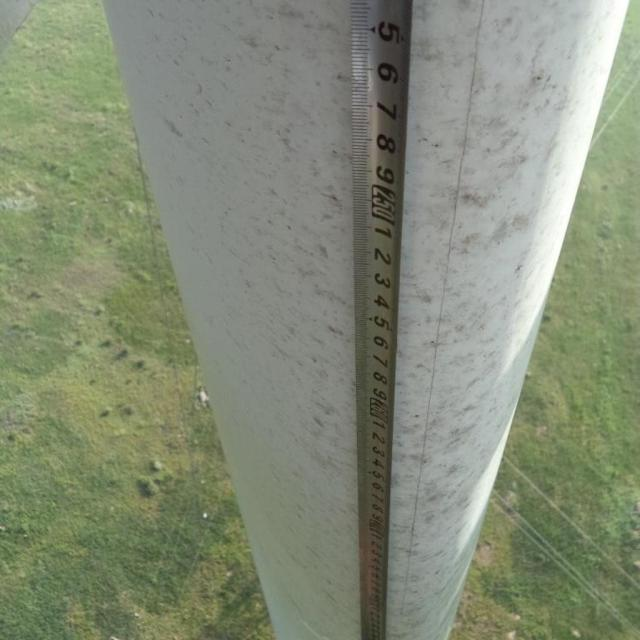crack: (428, 7, 486, 381), (399, 390, 432, 616)
